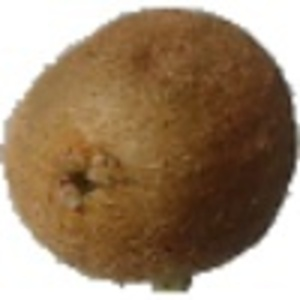kiwi: (1, 5, 300, 296)
